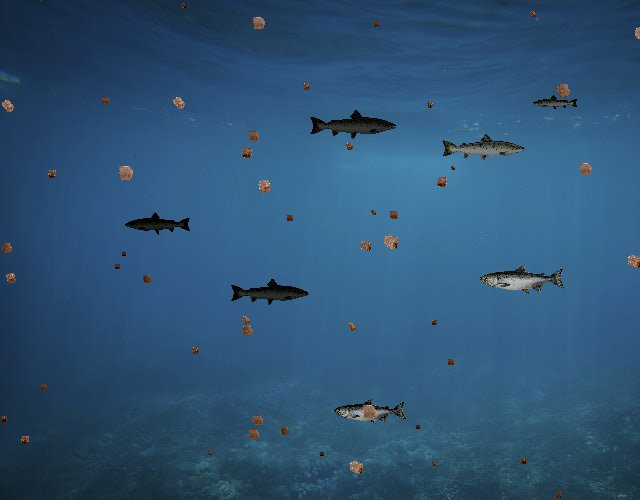Fish: (309, 108, 399, 141), (440, 132, 526, 163), (480, 264, 566, 295), (230, 278, 311, 307), (335, 399, 408, 425), (125, 212, 193, 236), (532, 95, 579, 112)
Pellet: (110, 157, 140, 188), (245, 9, 272, 36), (235, 142, 258, 164), (0, 267, 22, 289), (342, 318, 361, 337), (384, 206, 402, 224), (369, 17, 384, 32), (516, 454, 530, 468), (428, 317, 441, 330), (177, 0, 190, 12), (111, 261, 123, 273), (204, 448, 214, 458)
